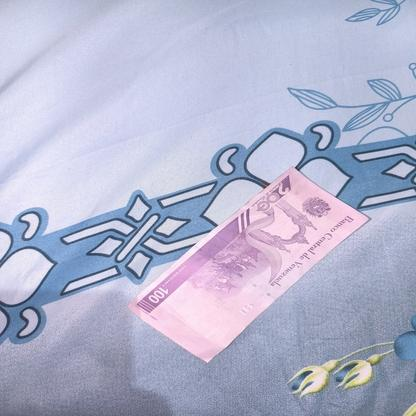one_hundred-back-vef: (127, 165, 370, 364)
